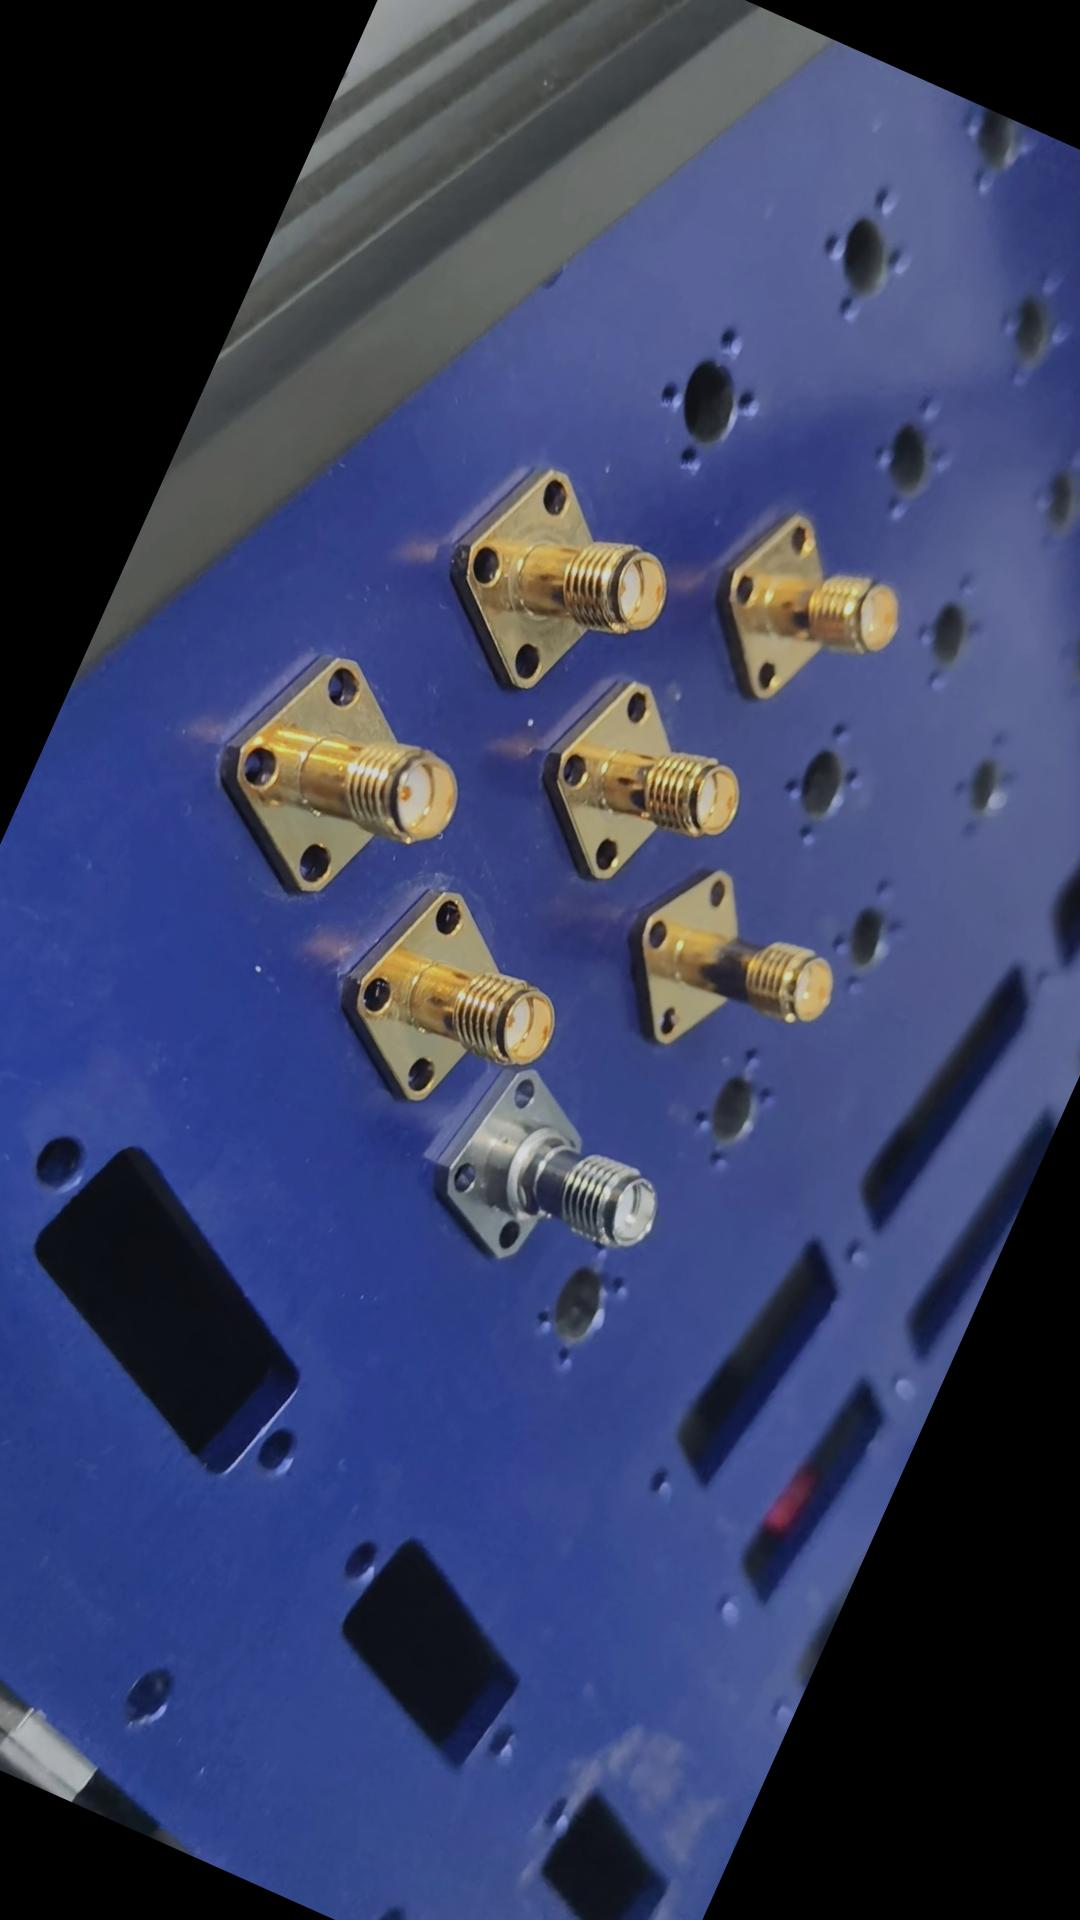SMA: (182, 626, 495, 938), (411, 442, 696, 736), (411, 1034, 704, 1317), (320, 866, 593, 1139), (509, 649, 775, 919), (605, 843, 866, 1098), (688, 493, 932, 746)
